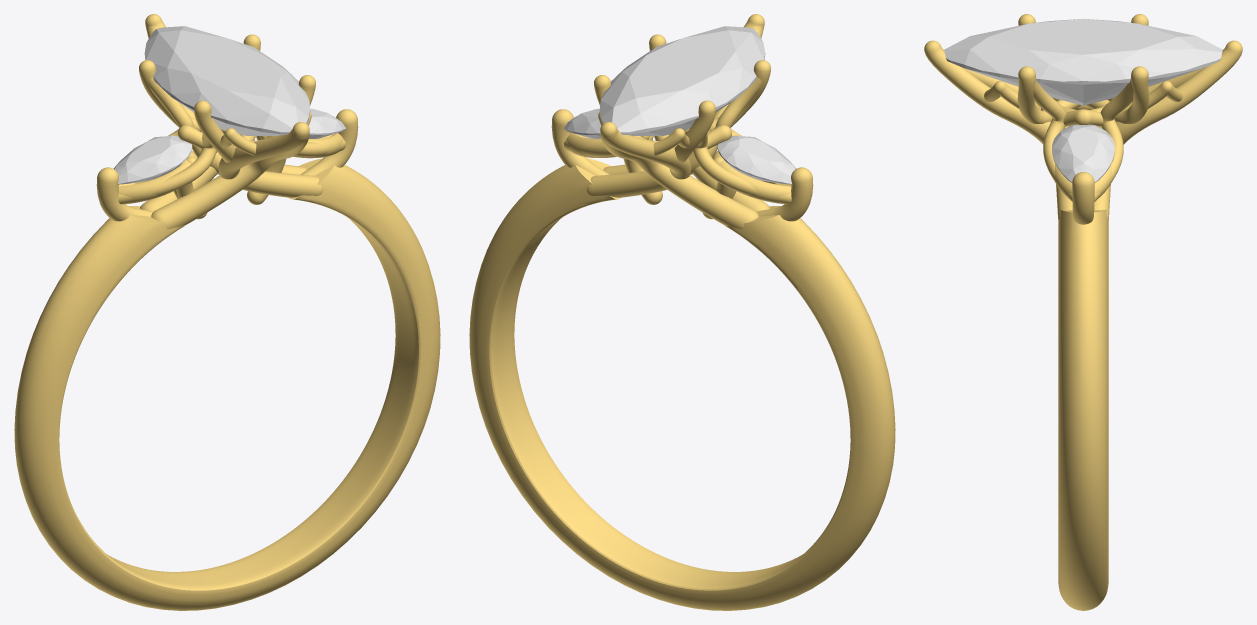
Rendered from ChristianYGeng_blender.glb.
3 renders of one model, left to right at view 1: azimuth 30°, elevation 25°; view 2: azimuth 150°, elevation 25°; view 3: azimuth 270°, elevation 25°, orthographic. The views are drawn at different scales.
Parts seen in each view (by area): view 1: Christian YG for 3d model, Christian dia for 3d model.002, Christian dia for 3d model, Christian dia for 3d model.001; view 2: Christian YG for 3d model, Christian dia for 3d model.002, Christian dia for 3d model, Christian dia for 3d model.001; view 3: Christian YG for 3d model, Christian dia for 3d model.002, Christian dia for 3d model.001.
Part boxes in pixels (x1,y1,x2,y2): Christian YG for 3d model: [14, 14, 440, 610]; Christian dia for 3d model.002: [144, 26, 310, 135]; Christian dia for 3d model: [113, 135, 192, 184]; Christian dia for 3d model.001: [308, 108, 346, 138]; Christian YG for 3d model: [469, 14, 895, 610]; Christian dia for 3d model.002: [599, 26, 765, 135]; Christian dia for 3d model: [717, 135, 796, 184]; Christian dia for 3d model.001: [563, 108, 601, 138]; Christian YG for 3d model: [924, 14, 1242, 610]; Christian dia for 3d model.002: [944, 18, 1222, 105]; Christian dia for 3d model.001: [1052, 124, 1114, 182].
Bounding box in the file's own units: 19.7 × 24.13 × 12.65.
